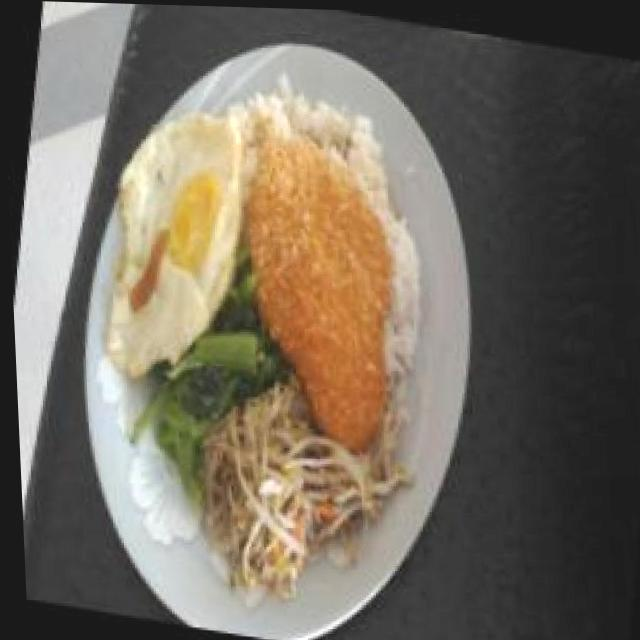fried_chicken: (209, 123, 426, 458)
fried_eggs: (88, 92, 263, 389)
mung_bean_sprouts: (192, 414, 367, 566)
rice: (227, 75, 386, 172)
water_spinach: (140, 286, 284, 474)
